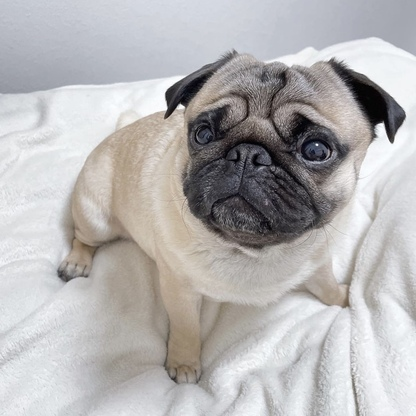Pug: (51, 45, 409, 389)
